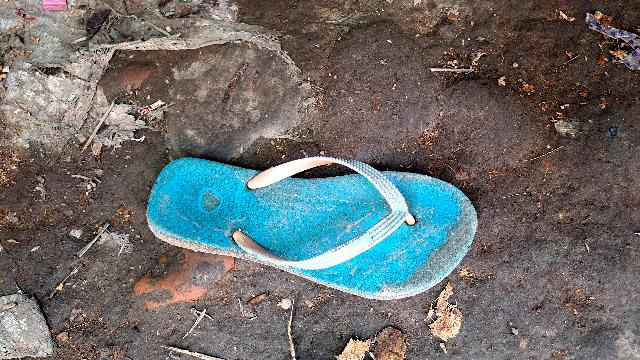sandal: (127, 138, 498, 321)
